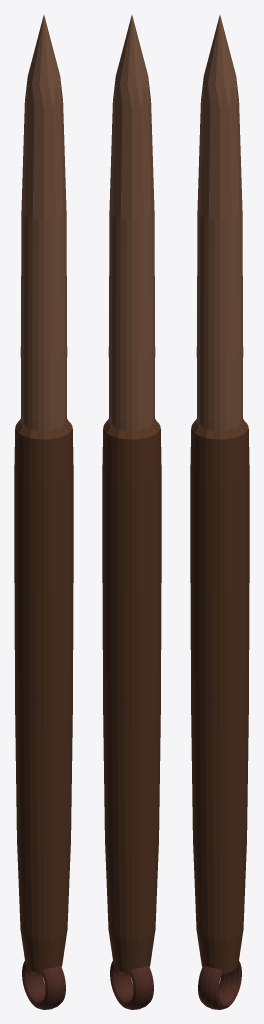
Rendered from Wand 1.glb.
3 renders of one model, left to right at view 1: azimuth 30°, elevation 25°; view 2: azimuth 210°, elevation 25°; view 3: azimuth 330°, elevation 25°, orthographic.
Visible parts, largest first — view 1: GeneratedWand; view 2: GeneratedWand; view 3: GeneratedWand.
Part boxes in pixels (box(x1,y1,x2,y2)): GeneratedWand: box(14, 15, 73, 1009); GeneratedWand: box(102, 15, 161, 1009); GeneratedWand: box(190, 15, 249, 1009).
Bounding box in the file's own units: 0.0273 × 0.505 × 0.0273.
